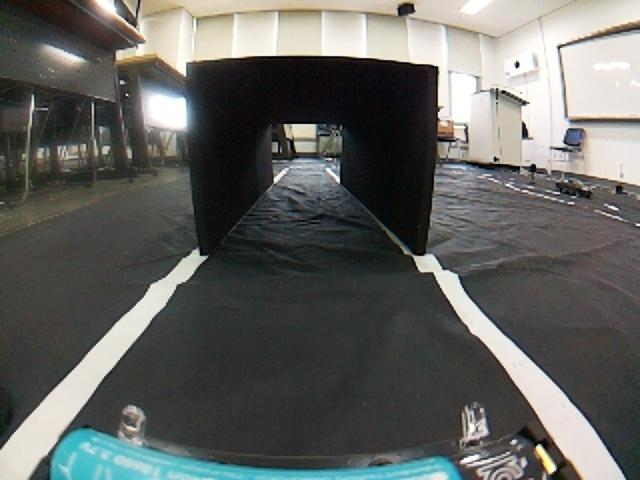straight: (5, 220, 640, 476)
